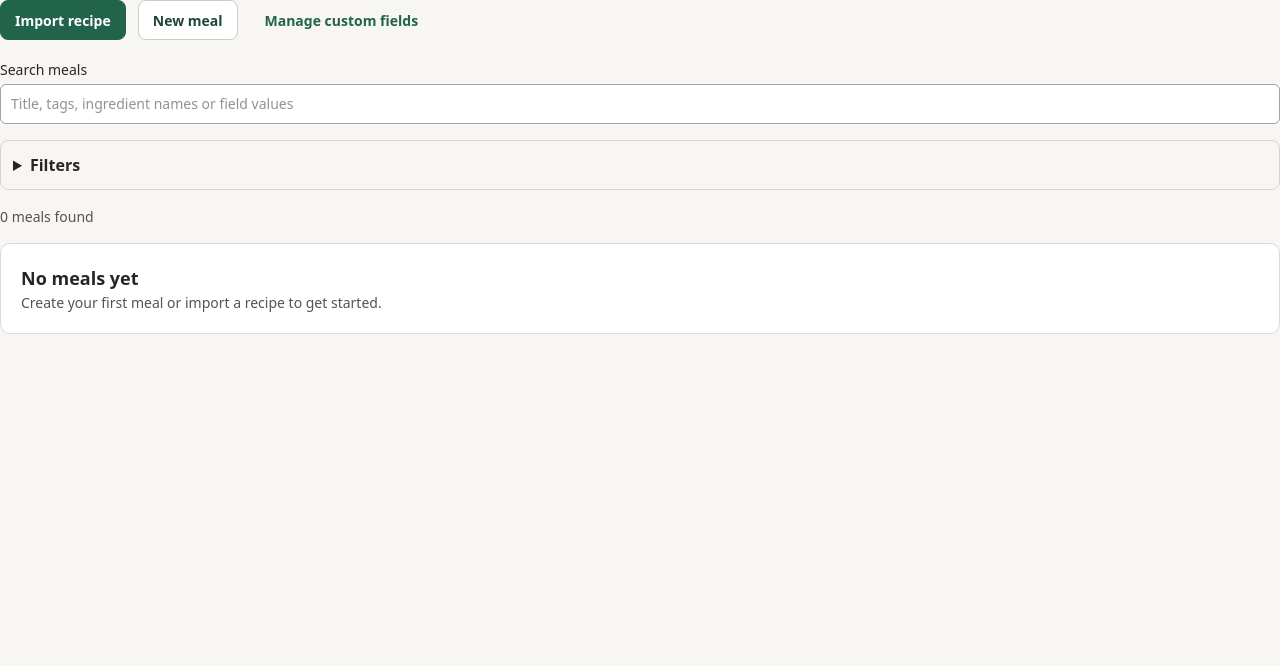
Test case: meal library workflows › reads optional URL prefill only when Import recipe is deliberately activated
Click the button "Import recipe".
click(63, 20)  # box [0,0,126,40]
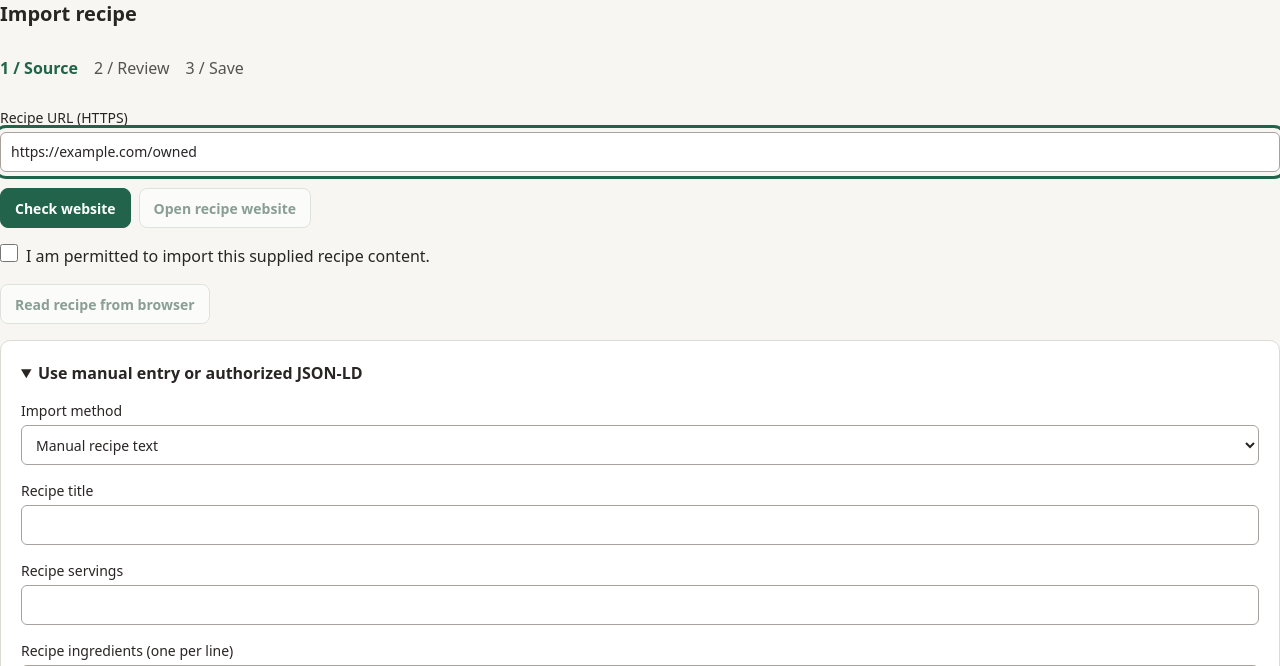
Expected: the field labelled "Recipe URL (HTTPS)" holds "https://example.com/owned", [0,132,1279,172]
Expected: the button "Open recipe website" is shown, [139,188,311,228]
